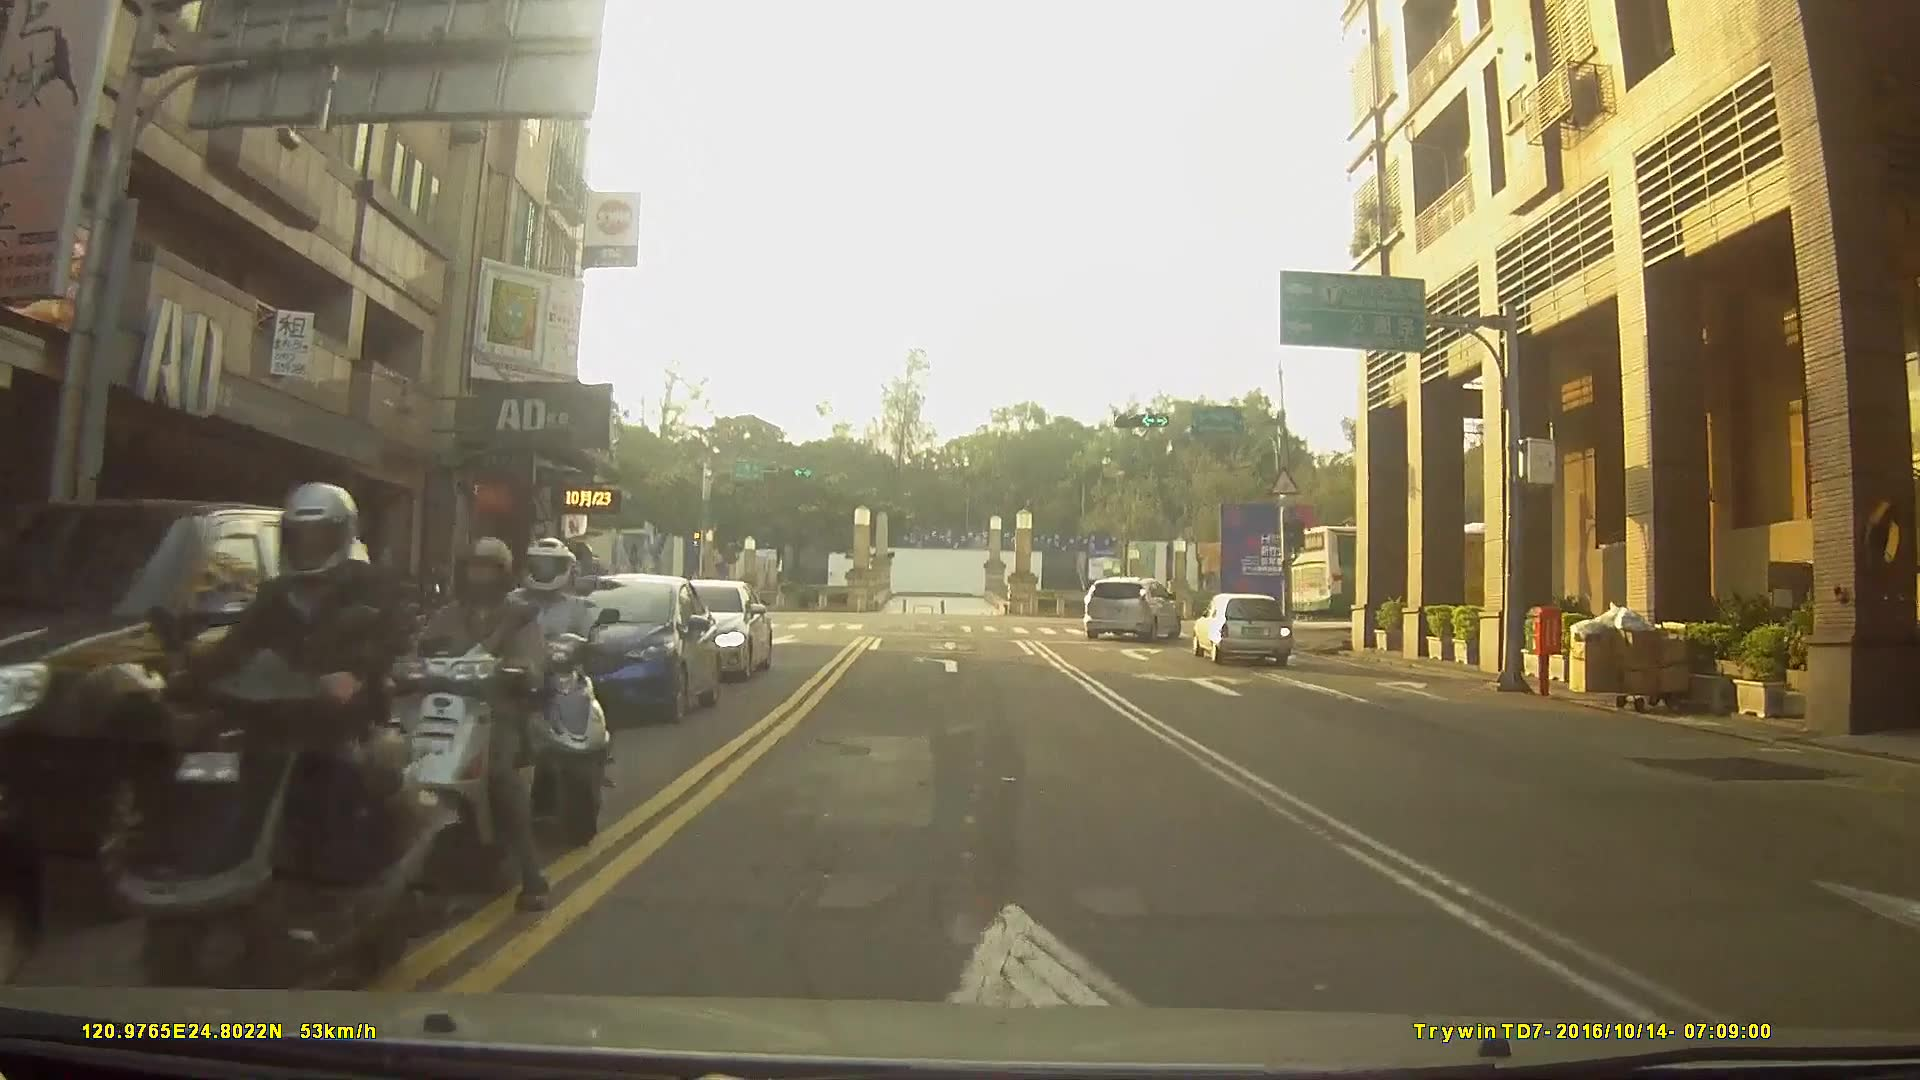rider: (117, 480, 445, 1039), (377, 534, 550, 926), (481, 534, 621, 846)
vehicle: (0, 495, 383, 919), (517, 568, 720, 722), (1288, 519, 1554, 618), (631, 573, 770, 676), (1190, 591, 1291, 665), (1085, 576, 1181, 641)
